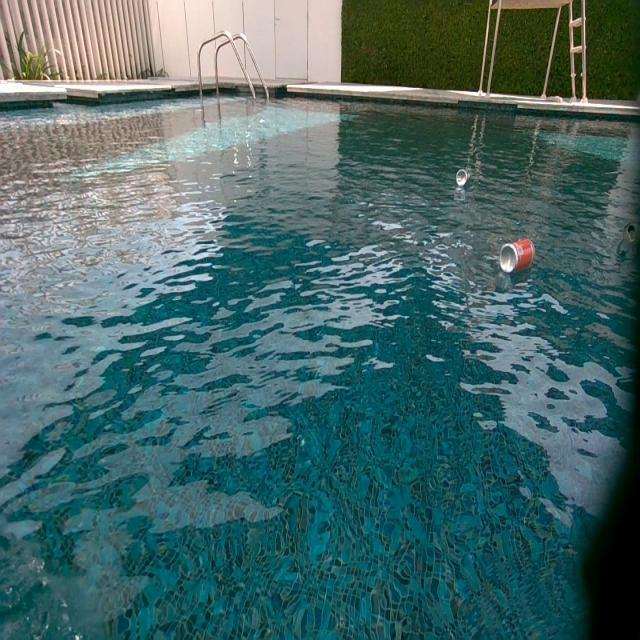Cans: (500, 241, 536, 277), (456, 170, 470, 188)
